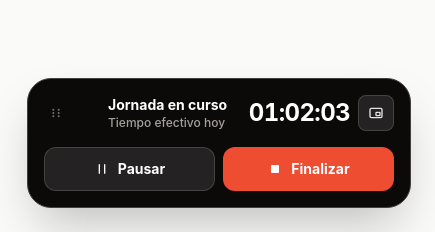
Test: ActiveWorktimeWidgetComponent › shows a useful error when the browser rejects Picture-in-Picture
Click the button with test id "worktime-widget-pip" at (376, 113), box 358,95 -> 394,131
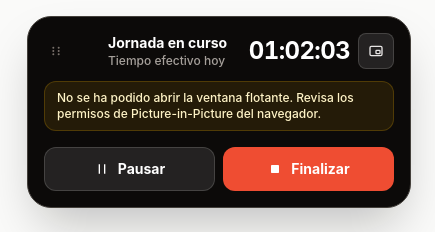
Check: the text "Revisa los permisos de Picture-in-Picture del navegador." is shown, box 57,90 -> 354,121
